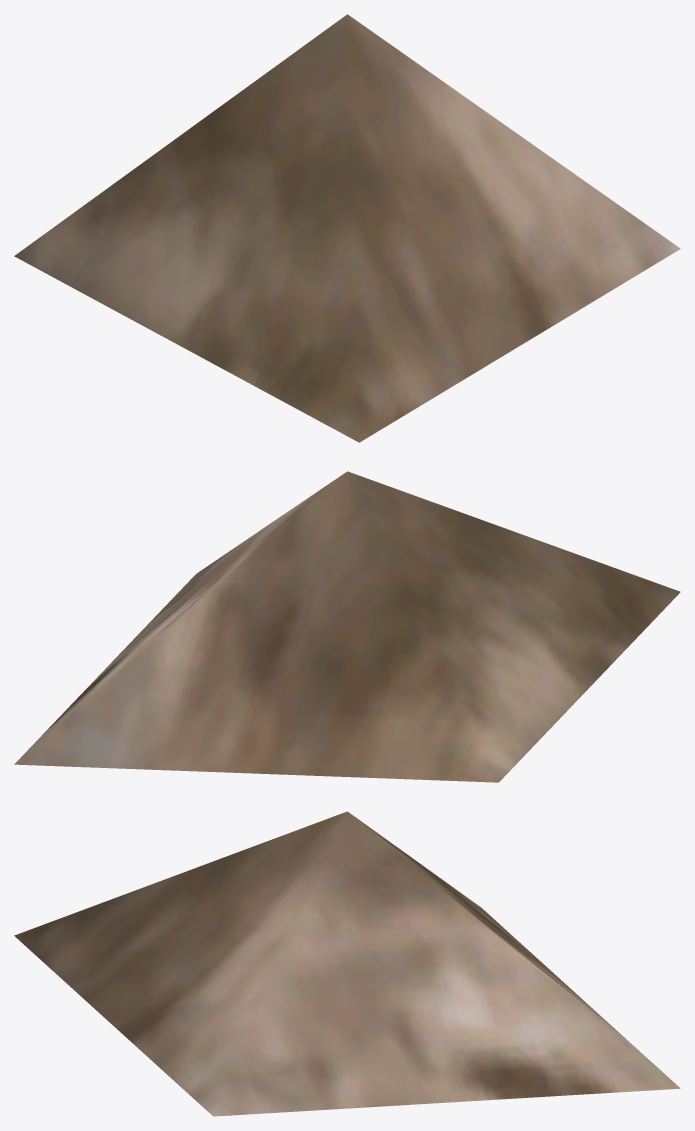
The model's file is OVERHILL_A_01_PLANE09.fbx.
The picture shows the model from 3 angles, top to bottom: view 1: azimuth 30°, elevation 25°; view 2: azimuth 150°, elevation 25°; view 3: azimuth 270°, elevation 25°; orthographic projection. The views are drawn at different scales.
Parts seen in each view (by area): view 1: OVERHILL_A_01_PLANE09; view 2: OVERHILL_A_01_PLANE09; view 3: OVERHILL_A_01_PLANE09.
Part boxes in pixels (bbox=[...]): OVERHILL_A_01_PLANE09: bbox=[14, 14, 680, 442]; OVERHILL_A_01_PLANE09: bbox=[14, 471, 680, 782]; OVERHILL_A_01_PLANE09: bbox=[14, 811, 680, 1116].
Bounding box in the file's own units: 1254 × 562 × 1693.
Materials: 1 (1 with a texture image).
